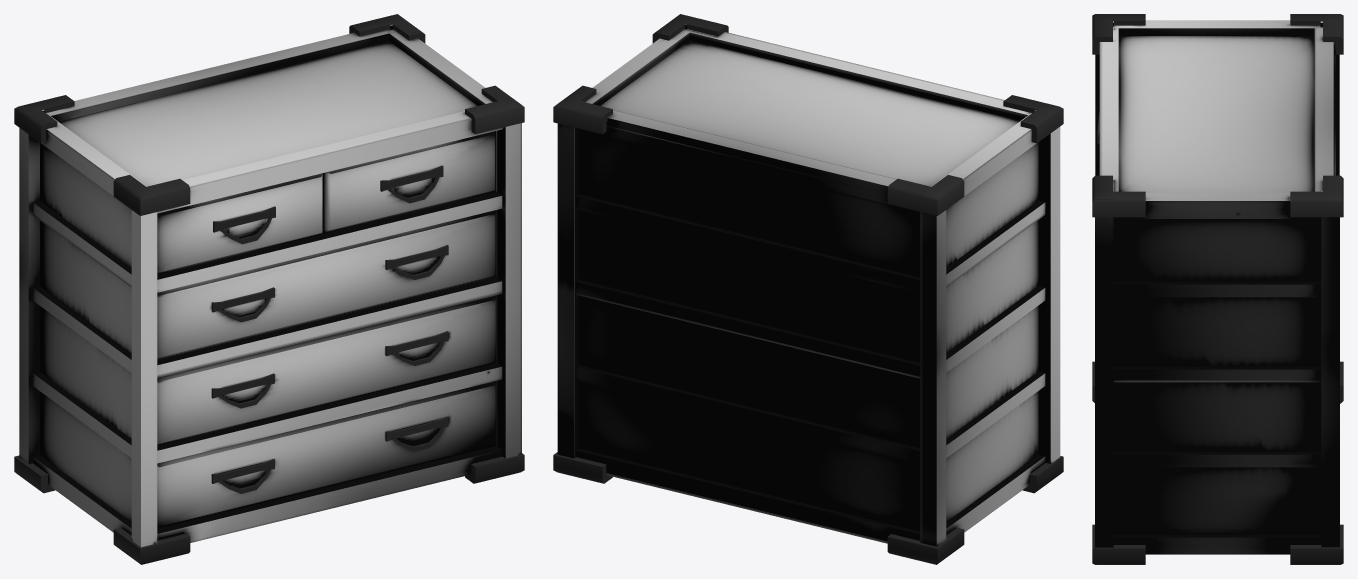
File: Closet01.fbx
The picture shows the model from 3 angles, left to right: view 1: azimuth 30°, elevation 25°; view 2: azimuth 150°, elevation 25°; view 3: azimuth 270°, elevation 25°; orthographic projection.
Visible parts, largest first — view 1: Closet01; view 2: Closet01; view 3: Closet01.
Boxes of the visible parts, <box> form: Closet01: <box>14,14,524,564</box>; Closet01: <box>553,14,1063,564</box>; Closet01: <box>1092,14,1343,564</box>.
Size of the model in its own units: 94.2 by 86.24 by 53.49.
